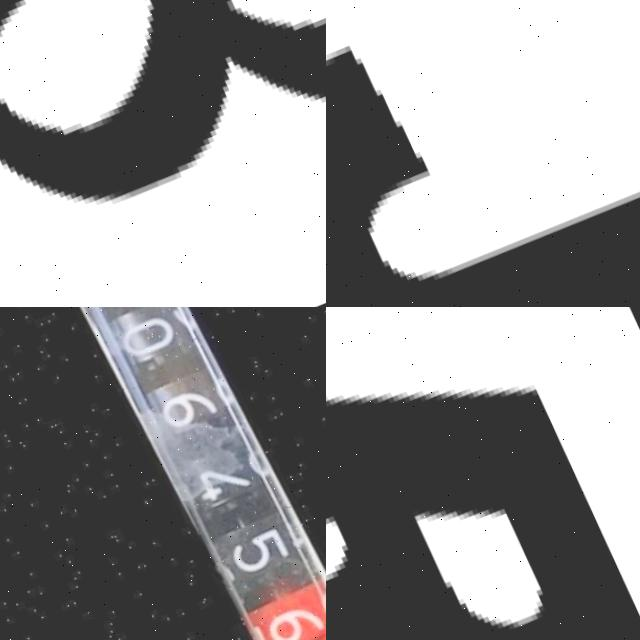0: (112, 307, 181, 361)
4: (186, 445, 256, 504)
5: (221, 512, 297, 577)
6: (153, 374, 220, 432), (256, 587, 326, 640)
8: (0, 0, 326, 260)
J: (326, 0, 640, 307)
R: (326, 307, 640, 640)
